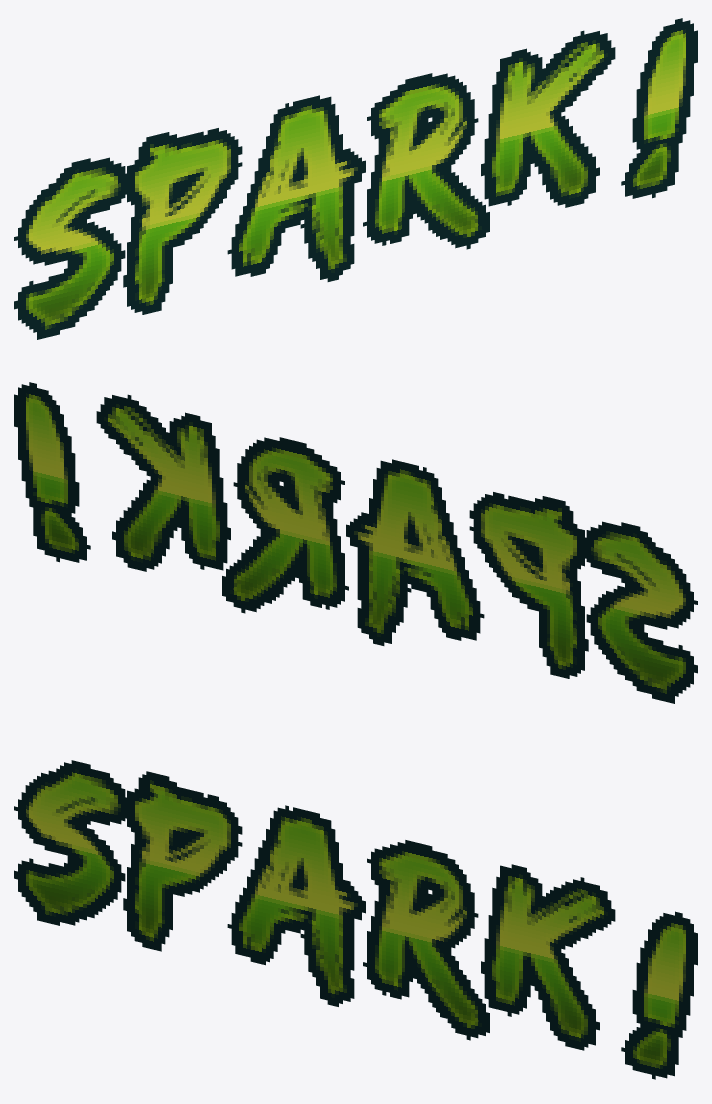
Rendered from effect_spark_1.FBX.
3 views of the same model, one above another, from view 1: azimuth 30°, elevation 25°; view 2: azimuth 150°, elevation 25°; view 3: azimuth 330°, elevation 25° (orthographic).
Visible parts, largest first — view 1: effect_spark_3, effect_spark_4, effect_spark_5, effect_spark_1, effect_spark_2, effect_spark_6; view 2: effect_spark_3, effect_spark_4, effect_spark_5, effect_spark_1, effect_spark_2, effect_spark_6; view 3: effect_spark_3, effect_spark_4, effect_spark_5, effect_spark_1, effect_spark_2, effect_spark_6.
Part boxes in pixels (box(x1,y1,x2,y2)): effect_spark_3: box(227, 95, 365, 281); effect_spark_4: box(363, 73, 489, 249); effect_spark_5: box(481, 30, 615, 207); effect_spark_1: box(14, 157, 128, 339); effect_spark_2: box(123, 128, 242, 314); effect_spark_6: box(621, 18, 697, 198); effect_spark_3: box(346, 459, 484, 645); effect_spark_4: box(222, 437, 348, 613); effect_spark_5: box(96, 394, 230, 571); effect_spark_1: box(582, 521, 697, 703); effect_spark_2: box(469, 492, 588, 678); effect_spark_6: box(14, 382, 90, 562); effect_spark_3: box(227, 805, 365, 1006); effect_spark_4: box(363, 840, 489, 1040); effect_spark_5: box(481, 864, 615, 1050); effect_spark_1: box(14, 760, 128, 925); effect_spark_2: box(123, 771, 242, 951); effect_spark_6: box(621, 911, 697, 1079).
Size of the model in its own units: 230 by 63.45 by 2.77e-06.
Materials: 6 (6 with a texture image).
